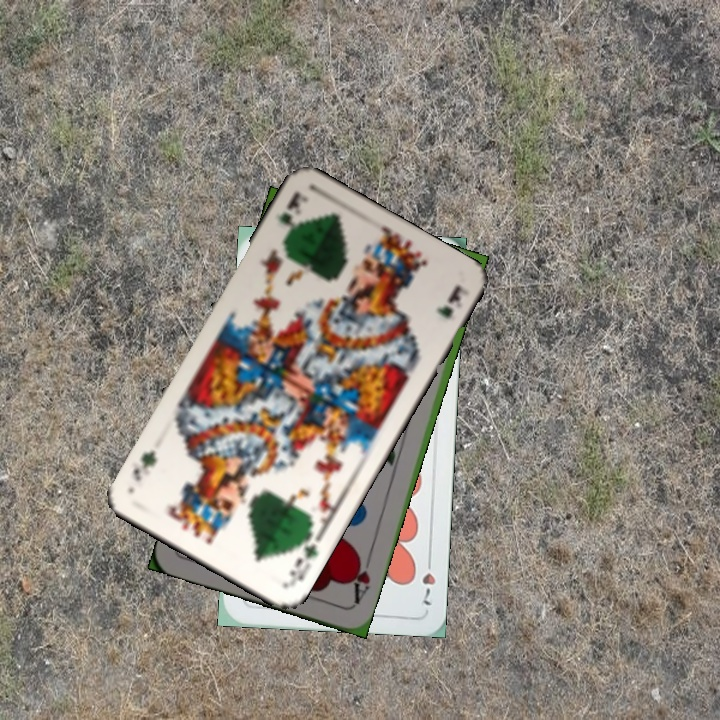GK: (284, 528, 325, 586), (271, 187, 311, 246)
H7: (418, 551, 438, 608)
HA: (346, 549, 375, 607)
